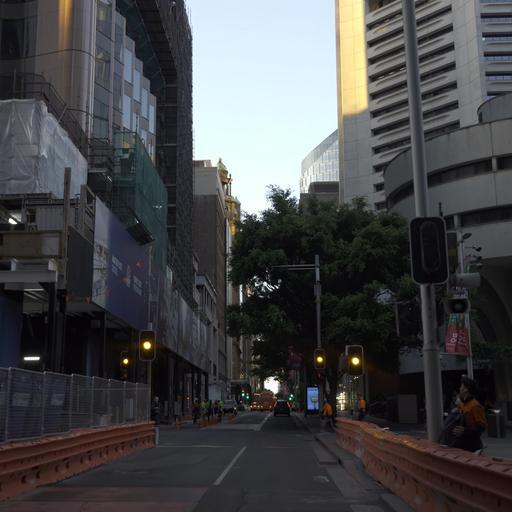Street light: (269, 253, 326, 412), (137, 328, 156, 420), (344, 343, 365, 418), (312, 347, 327, 409), (344, 343, 364, 376), (137, 329, 155, 361), (312, 347, 326, 370), (119, 348, 129, 380)
